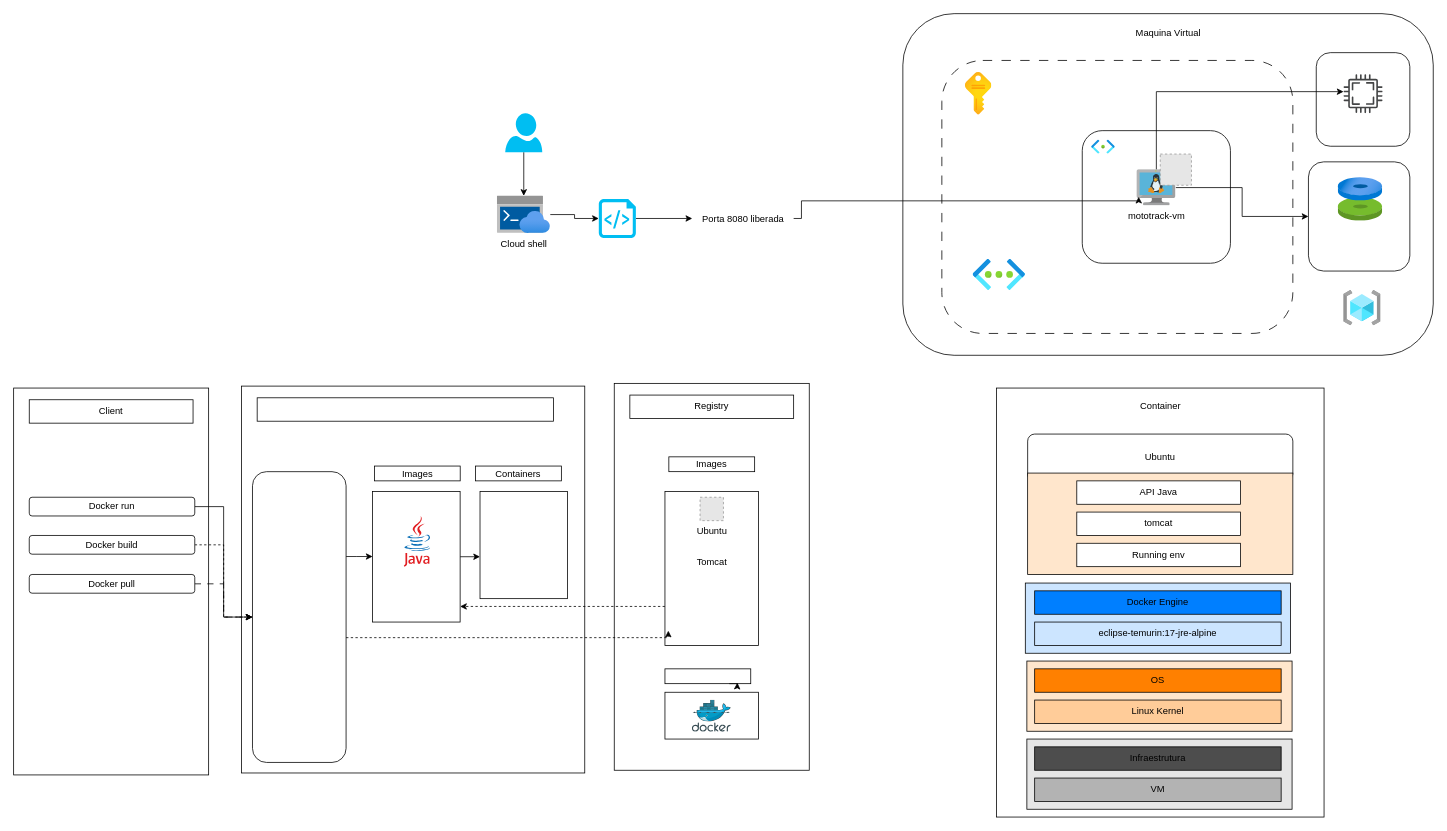
Some shapes in this 1447 by 831 pixel diagram are drawn without their labels. Grey dashed boxes stand in for pictures. The centre of each missing label's shape, as x and y in pixels:
"2 CPUs 4 GB RAM" goes at (x=1362, y=93).
"Azure for Students" goes at (x=978, y=93).
"criar-vm-mototrack.sh" goes at (x=616, y=218).
"Docker daemon" goes at (x=299, y=616).
"Docker Host" goes at (x=405, y=409).
"mototrack-rg" goes at (x=1362, y=307).
"mototrack-vm_OsFisk" goes at (x=1360, y=199).
"Plugins" goes at (x=707, y=676).
"Subnet" goes at (x=1103, y=147).
"User" goes at (x=523, y=132).
"vnet-mototrack-vm" goes at (x=999, y=274).
